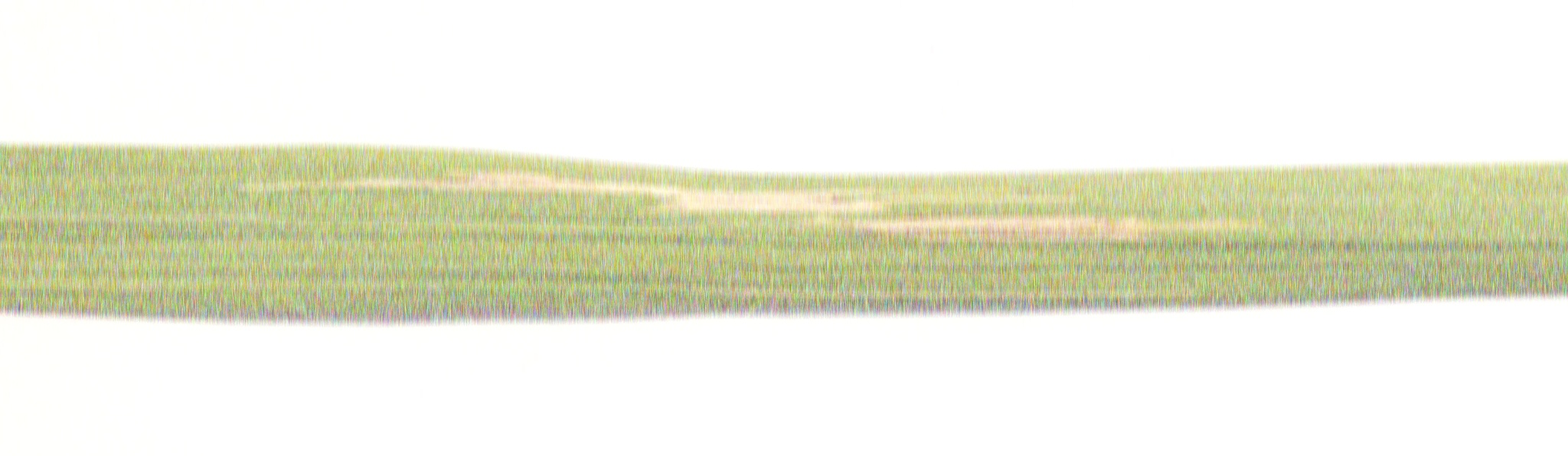Leaf_Blast: (194, 174, 1276, 257)
